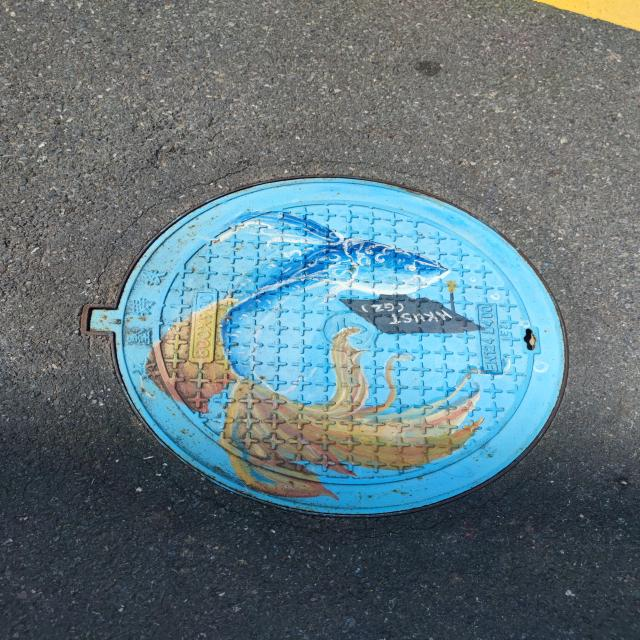Good: (79, 174, 573, 524)
